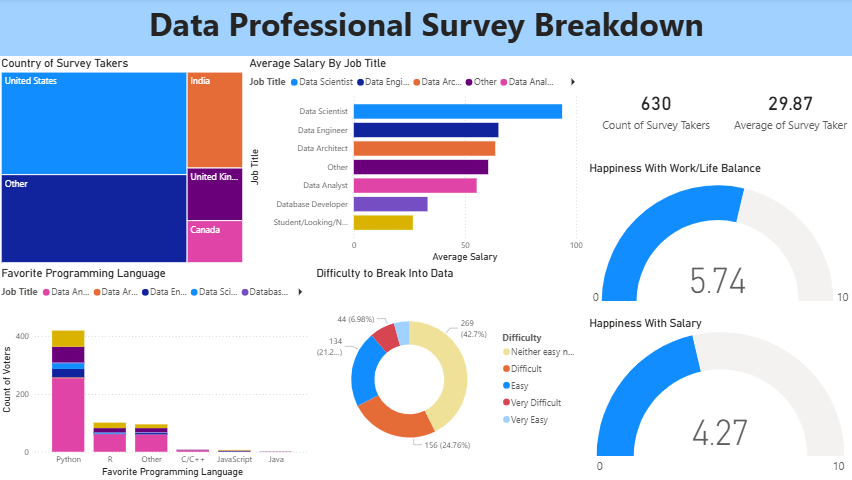

The dashboard page shown, as its layout file describes it:
{"tool":"powerbi","page":{"name":"Page 1","canvas":[1280,720],"ordinal":0},"visuals":[{"type":"textbox","box":[0,0,1280,87.3],"z":0},{"type":"card","fields":{"Values":["CountNonNull(Data Professional Survey.Unique ID)"]},"box":[878.3,86.6,209.1,156.8],"z":1000},{"type":"card","fields":{"Values":["Avg(Data Professional Survey.Q10 - Current Age)"]},"box":[1087.5,86.6,192.7,156.8],"z":2000},{"type":"barChart","title":"Average Salary By Job Title","fields":{"Category":["Data Professional Survey.Q1 - Which Title Best Fits your Current Role?.1"],"Y":["Avg(Data Professional Survey.Average Salary)"],"Series":["Data Professional Survey.Q1 - Which Title Best Fits your Current Role?.1"]},"box":[370.5,86.6,507.9,313.7],"z":3000},{"type":"columnChart","title":"Favorite Programming Language","fields":{"Category":["Data Professional Survey.Q5 - Favorite Programming Language.1"],"Y":["CountNonNull(Data Professional Survey.Unique ID)"],"Series":["Data Professional Survey.Q1 - Which Title Best Fits your Current Role?.1"]},"box":[0,399.8,470.3,320.8],"z":4000},{"type":"treemap","title":"Country of Survey Takers","fields":{"Group":["Data Professional Survey.Q11 - Which Country do you live in?.1"],"Values":["CountNonNull(Data Professional Survey.Q11 - Which Country do you live in?.1)"]},"box":[0,86.6,370.5,313.7],"z":5000},{"type":"gauge","title":"Happiness With Work/Life Balance","fields":{"Y":["Avg(Data Professional Survey.Q6 - How Happy are you in your Current Position with the following? (Work/Life Balance))"],"MinValue":["Min(Data Professional Survey.Q6 - How Happy are you in your Current Position with the following? (Work/Life Balance))1"],"MaxValue":["Max(Data Professional Survey.Q6 - How Happy are you in your Current Position with the following? (Work/Life Balance))2"]},"box":[878.3,243.5,401.8,231.5],"z":6000},{"type":"gauge","title":"Happiness With Salary","fields":{"Y":["Avg(Data Professional Survey.Q6 - How Happy are you in your Current Position with the following? (Salary))"],"MinValue":["Min(Data Professional Survey.Q6 - How Happy are you in your Current Position with the following? (Salary))"],"MaxValue":["Max(Data Professional Survey.Q6 - How Happy are you in your Current Position with the following? (Salary))"]},"box":[878.3,475,401.8,245],"z":7000},{"type":"donutChart","title":"Difficulty to Break Into Data","fields":{"Category":["Data Professional Survey.Q7 - How difficult was it for you to break into Data?"],"Y":["CountNonNull(Data Professional Survey.Q7 - How difficult was it for you to break into Data?)"]},"box":[470.5,400.3,407.8,319.7],"z":8000}]}

Visuals, with their boxes in screenshot pixels (x1, y1, x2, y2), scaled from the page's 1280x720 canvas onto the 852x480 screenshot:
textbox: locate(0, 0, 851, 58)
card - CountNonNull(Data Professional Survey.Unique ID): locate(585, 58, 724, 162)
card - Avg(Data Professional Survey.Q10 - Current Age): locate(724, 58, 851, 162)
"Average Salary By Job Title" barChart: locate(247, 58, 585, 267)
"Favorite Programming Language" columnChart: locate(0, 267, 313, 479)
"Country of Survey Takers" treemap: locate(0, 58, 247, 267)
"Happiness With Work/Life Balance" gauge: locate(585, 162, 851, 317)
"Happiness With Salary" gauge: locate(585, 317, 851, 479)
"Difficulty to Break Into Data" donutChart: locate(313, 267, 585, 479)
